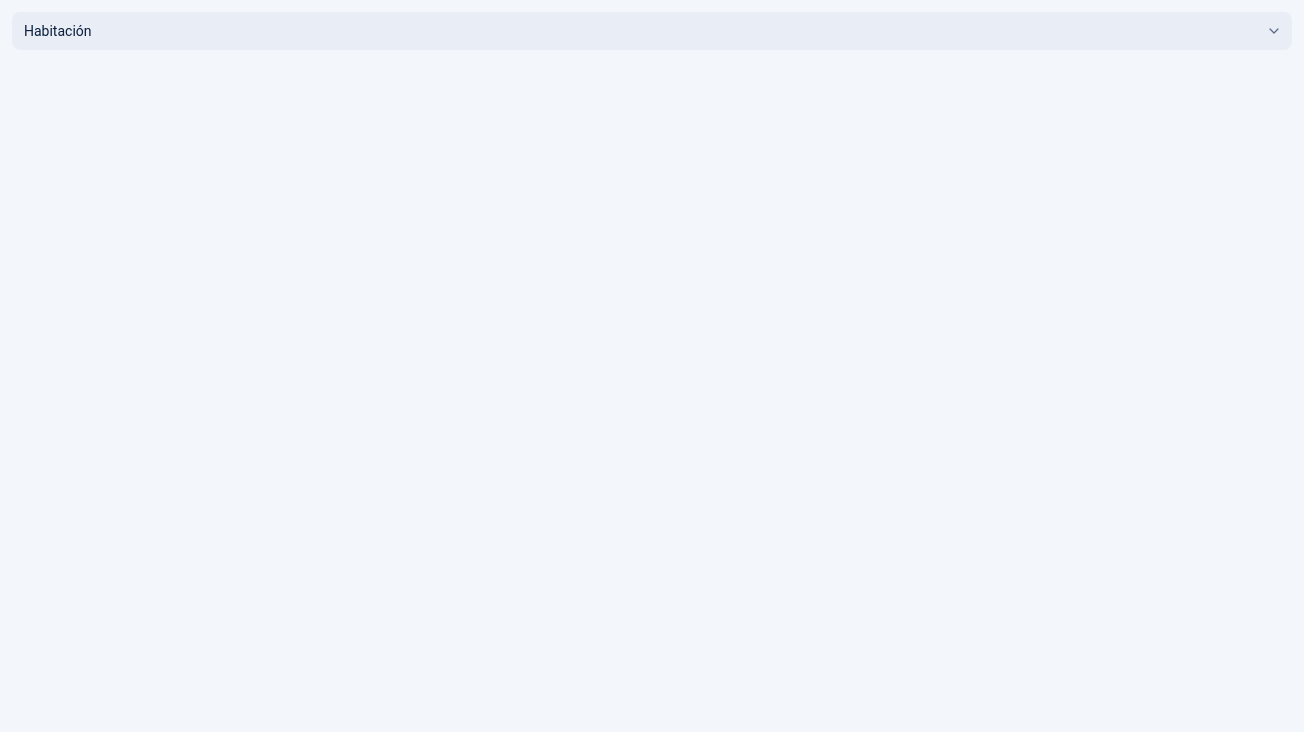
Scenario: a click outside closes it
This screenshot has width=1304, height=732.
Click the dropdown named "Tipo" at (58, 31), box [12,12,1292,50]
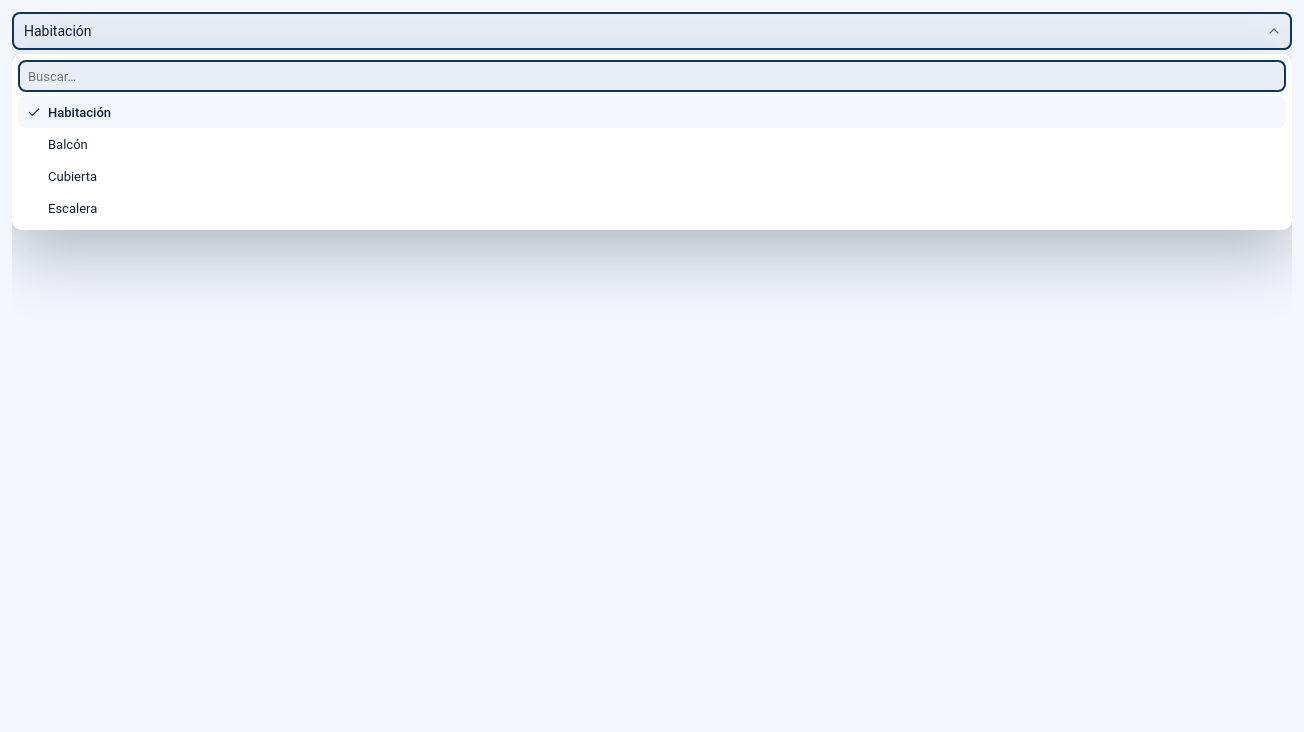
Press the mouse on the element showing "Habitación Habitación Balcón Cubierta Escalera" at (652, 372), box [12,12,1292,731]
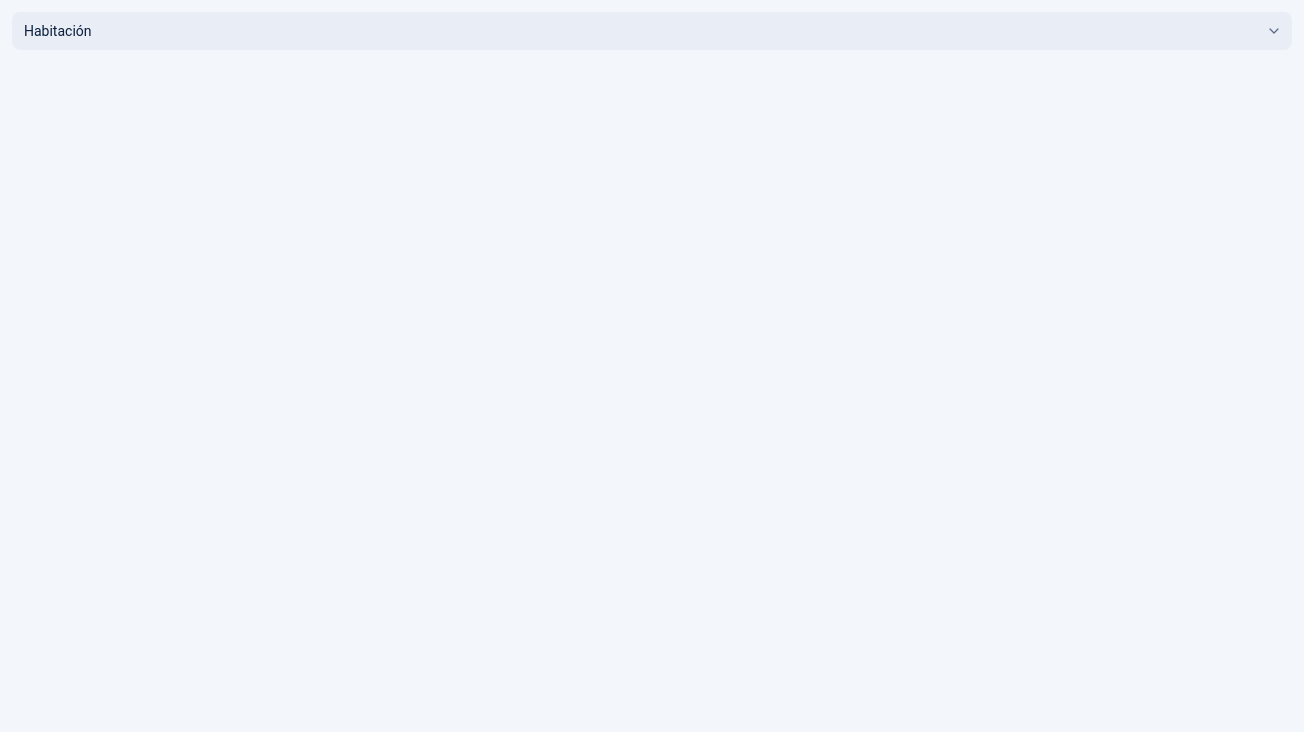
Expected: the list is gone
